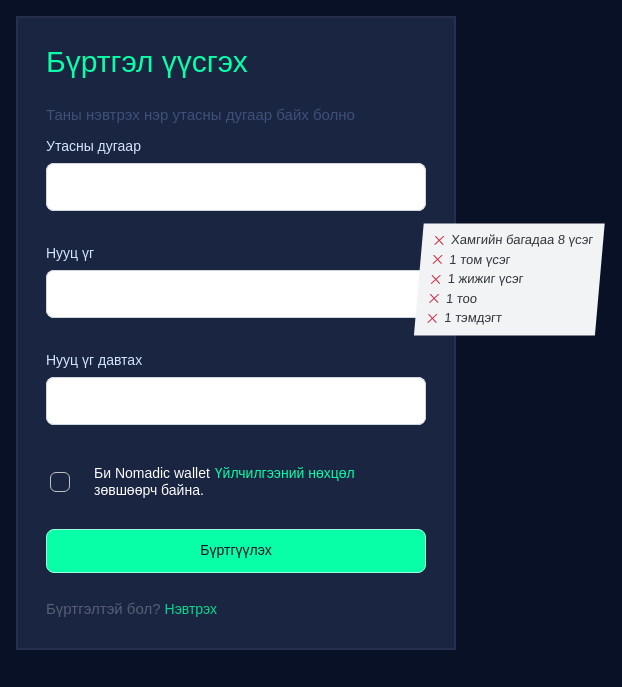
Test: user register repassword field validation › repassword incorrect
Type "9633" into the password field with test id "rePasswordId" at (236, 401), box [46,377,426,425]
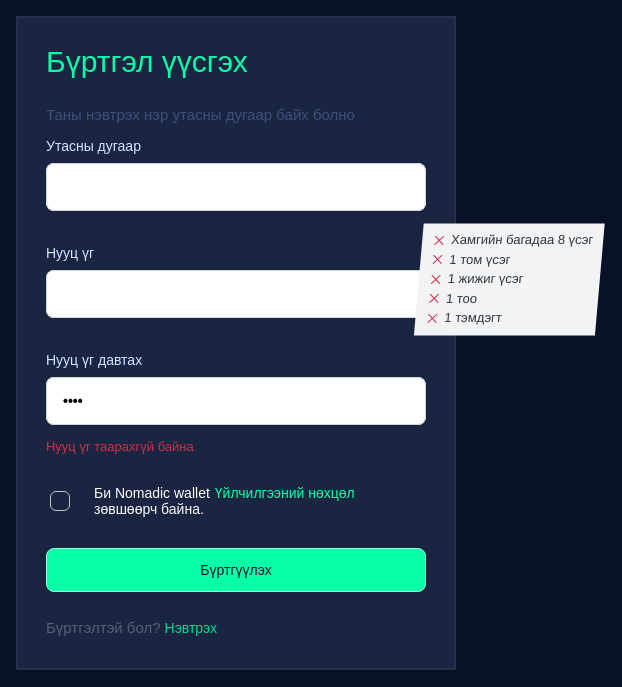
Expected: the text with test id "repassword-error-sms" reads "Нууц үг таарахгүй байна", [46,439,194,454]
